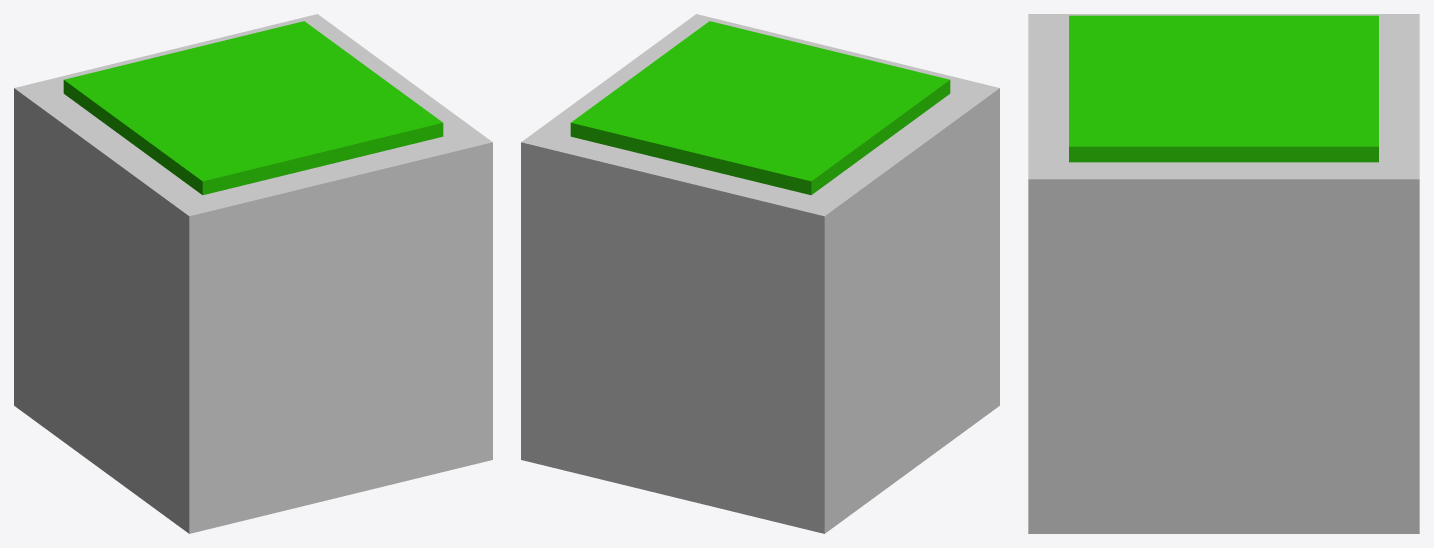
Rendered from NormalTileHight.fbx.
The picture shows the model from 3 angles, left to right: view 1: azimuth 30°, elevation 25°; view 2: azimuth 150°, elevation 25°; view 3: azimuth 270°, elevation 25°; orthographic projection. The views are drawn at different scales.
Visible parts, largest first — view 1: NormalTileHight; view 2: NormalTileHight; view 3: NormalTileHight.
Part boxes in pixels (x1=…): NormalTileHight: x1=14, y1=14, x2=492, y2=533; NormalTileHight: x1=521, y1=14, x2=999, y2=533; NormalTileHight: x1=1028, y1=14, x2=1419, y2=533.
Size of the model in its own units: 100 by 104 by 100.
